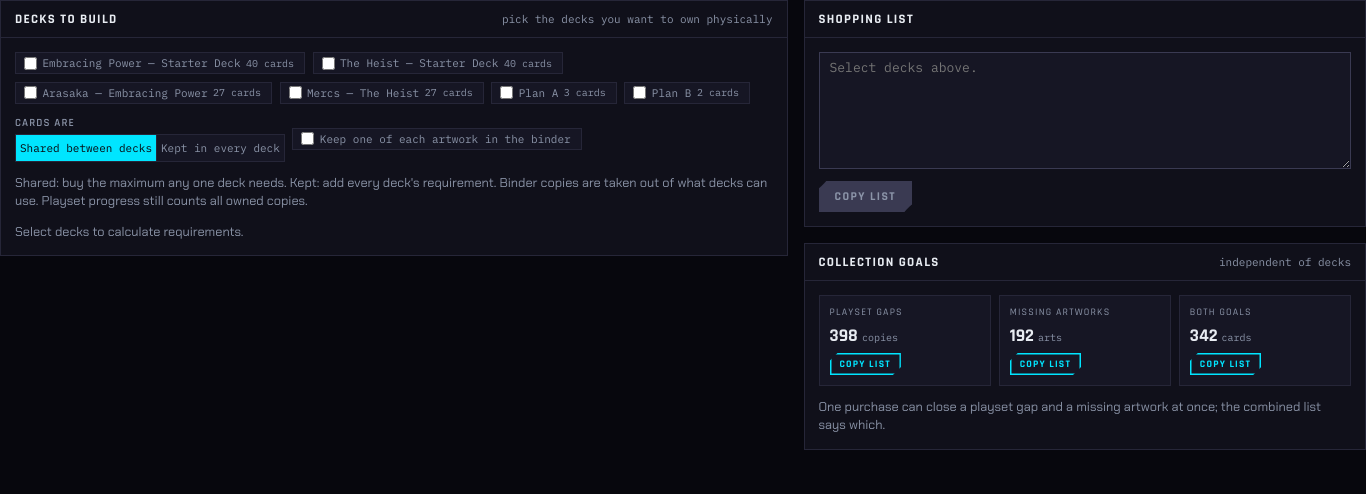
Test: PlanPurchasesMode › surfaces a rejected clipboard write
The image size is (1366, 494).
What coordinates should you click on to do the following:
click the button with test id "copy-buylist"
I would click on:
 (1226, 364)
Its box is [1190,353,1261,375].
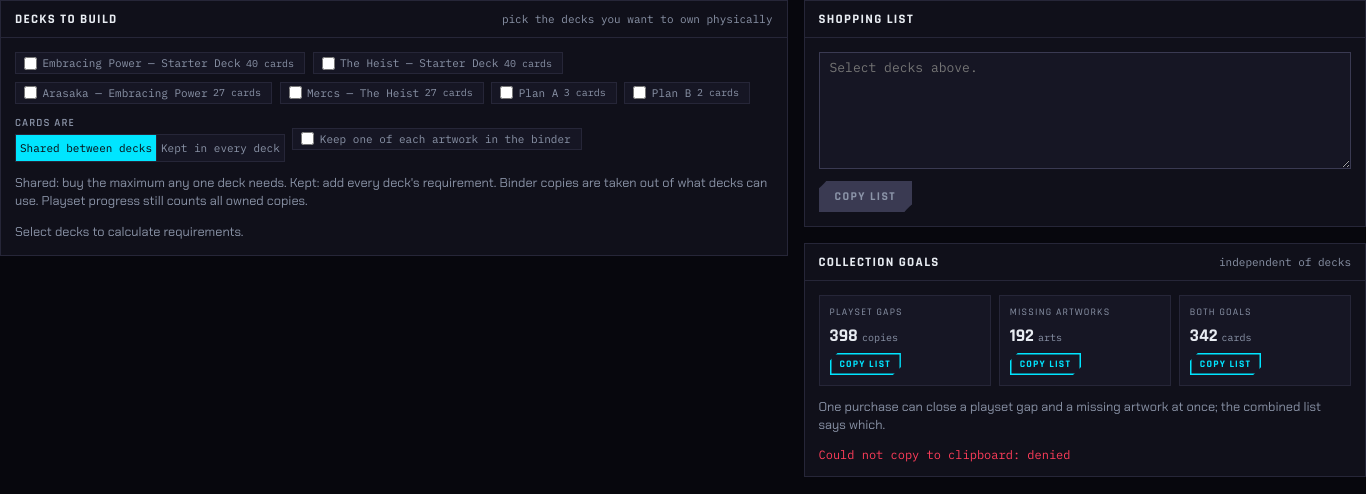
Check: the message with test id "copy-error" shows "Could not copy", box [818,447,1070,462]
